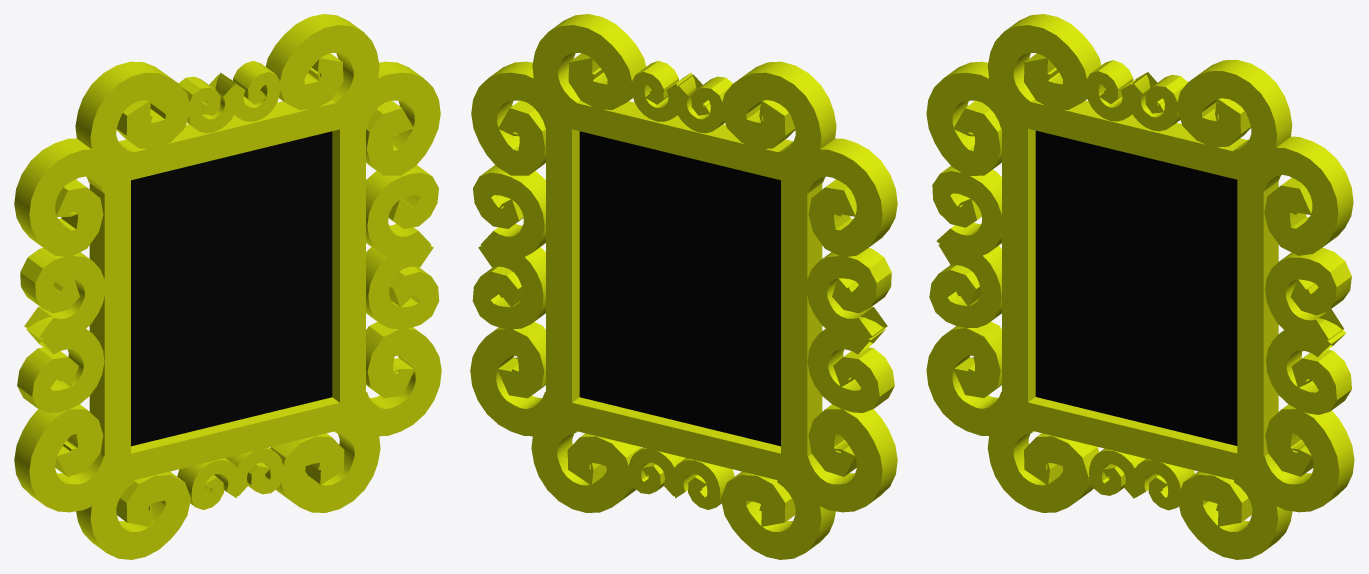
File: Joseph_painting frame.fbx
3 views of the same model, side by side, from view 1: azimuth 30°, elevation 25°; view 2: azimuth 150°, elevation 25°; view 3: azimuth 330°, elevation 25° (orthographic).
Visible parts, largest first — view 1: pCube5, pPlane1; view 2: pCube5, pPlane1; view 3: pCube5, pPlane1.
Boxes of the visible parts, x1,y1,x2,y2 form: pCube5: (14,14,441,559); pPlane1: (131,131,332,446); pCube5: (470,14,897,559); pPlane1: (579,131,780,446); pCube5: (926,14,1354,559); pPlane1: (1035,130,1237,445).
Size of the model in its own units: 1581 by 1777 by 100.
